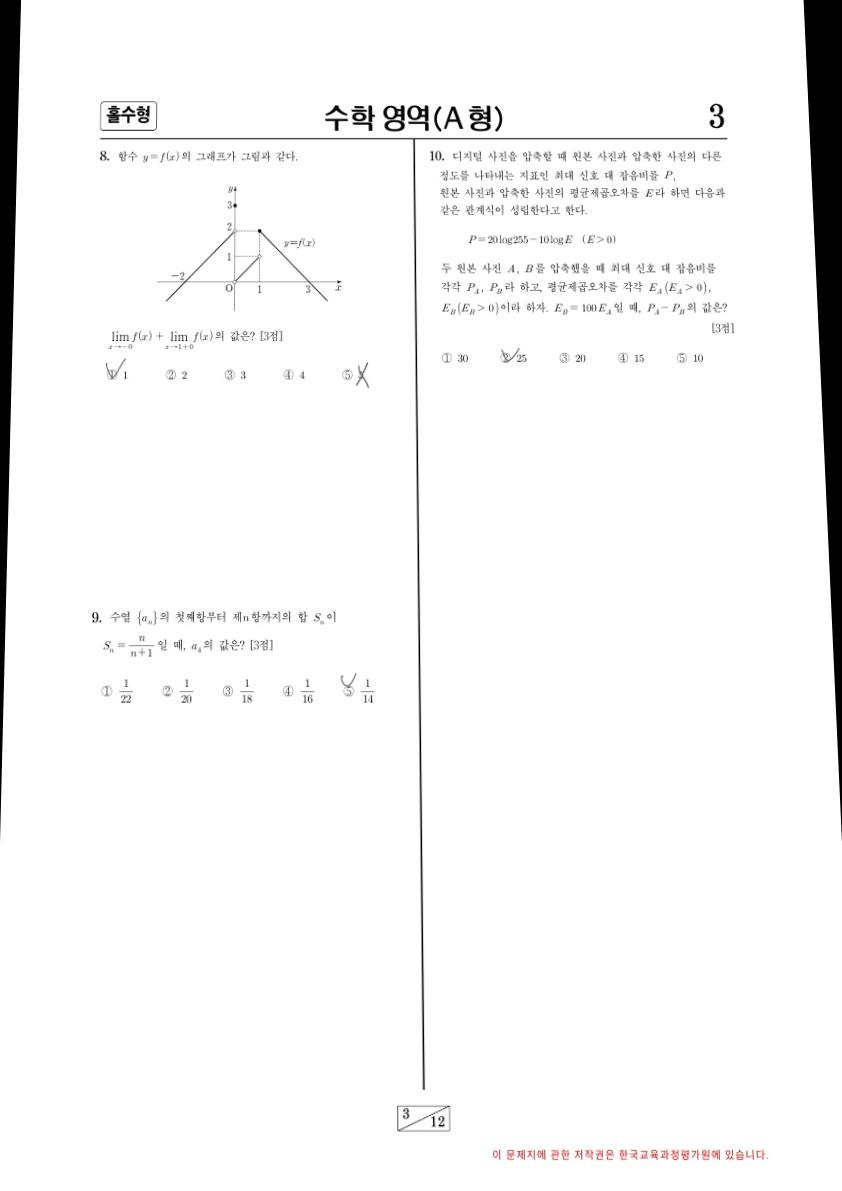question: (79, 142, 390, 406), (416, 143, 748, 384), (74, 599, 388, 728)
